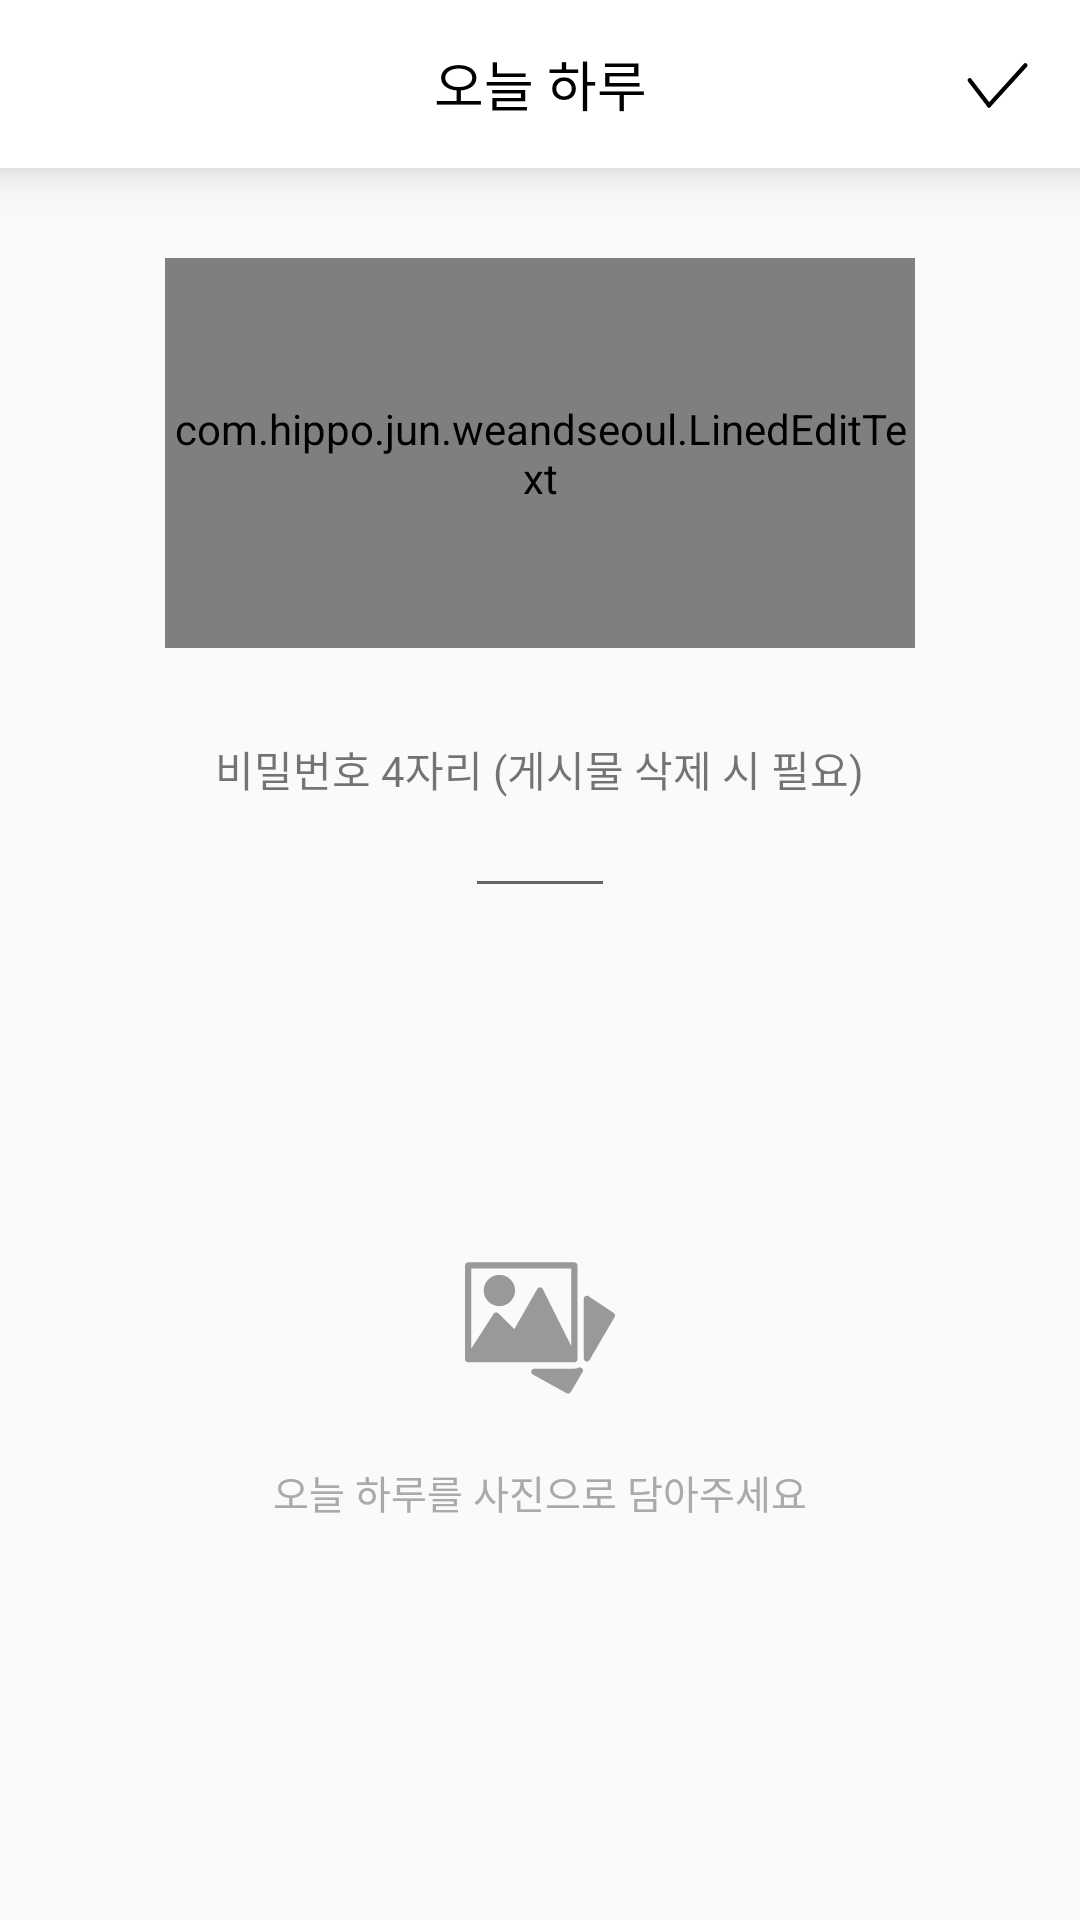

Locate icon controls on the screen. Image size 1080w x 1920h, boxes as (x1, y1, x2, y2).
check: (967, 63, 1028, 108)
gallery: (465, 1262, 615, 1394)
